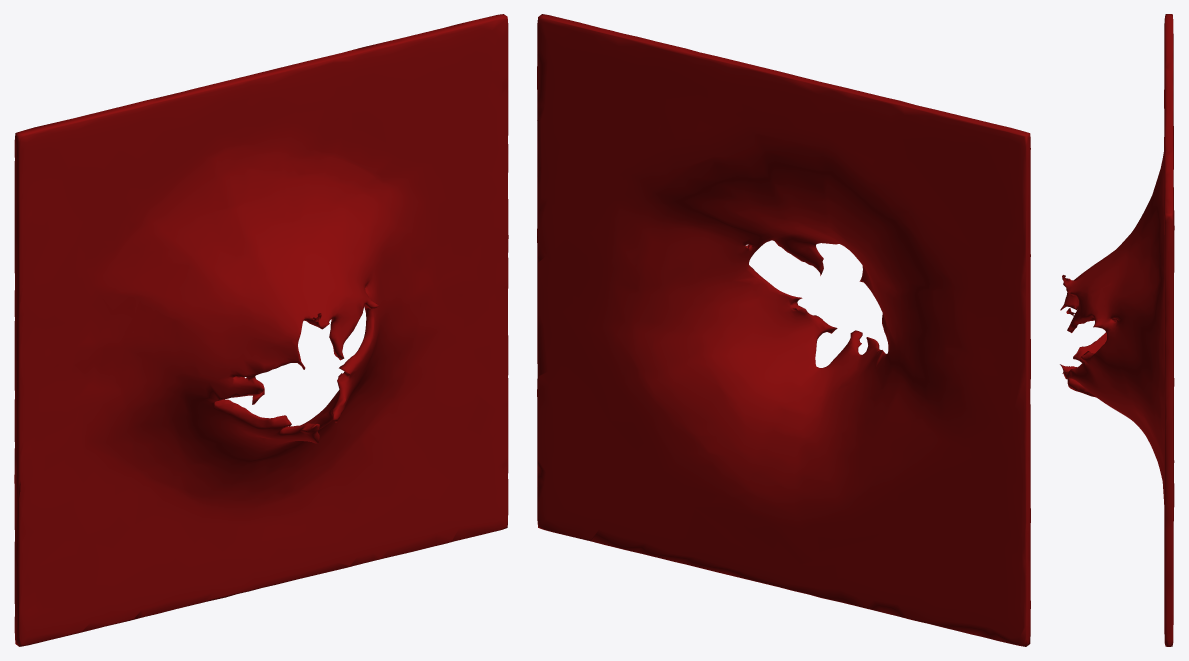
File: METAL04.fbx
3 views of the same model, side by side, from view 1: azimuth 30°, elevation 25°; view 2: azimuth 150°, elevation 25°; view 3: azimuth 270°, elevation 25° (orthographic). The views are drawn at different scales.
Parts seen in each view (by area): view 1: metal04; view 2: metal04; view 3: metal04.
Part boxes in pixels (bbox=[...]): metal04: bbox=[14, 14, 508, 646]; metal04: bbox=[537, 14, 1030, 646]; metal04: bbox=[1060, 14, 1174, 646].
Bounding box in the file's own units: 4.99 × 4.99 × 1.2.
